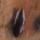cockroach: (12, 7, 24, 38)
